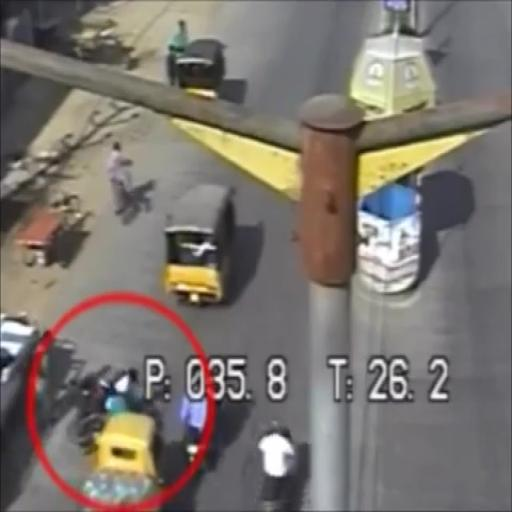小汽车: (164, 177, 233, 303), (87, 412, 154, 508)
自行车: (257, 414, 299, 508), (107, 138, 145, 225)
